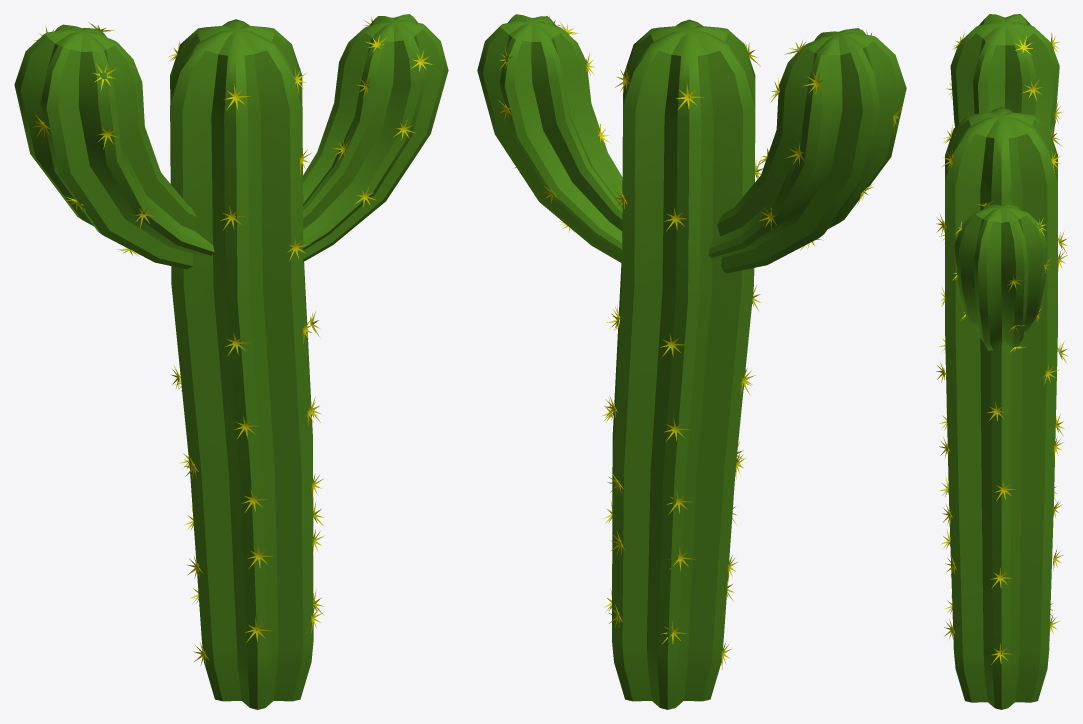
Rendered from cactus02.glb.
The picture shows the model from 3 angles, left to right: view 1: azimuth 30°, elevation 25°; view 2: azimuth 150°, elevation 25°; view 3: azimuth 270°, elevation 25°; orthographic projection. The views are drawn at different scales.
Visible parts, largest first — view 1: Cactuss_02; view 2: Cactuss_02; view 3: Cactuss_02.
Part boxes in pixels (x1=…): Cactuss_02: x1=14, y1=14, x2=448, y2=709; Cactuss_02: x1=477, y1=14, x2=906, y2=709; Cactuss_02: x1=936, y1=14, x2=1067, y2=709.
Size of the model in its own units: 1.36 by 2.23 by 0.4532.
Materials: 1 (1 with a texture image).
